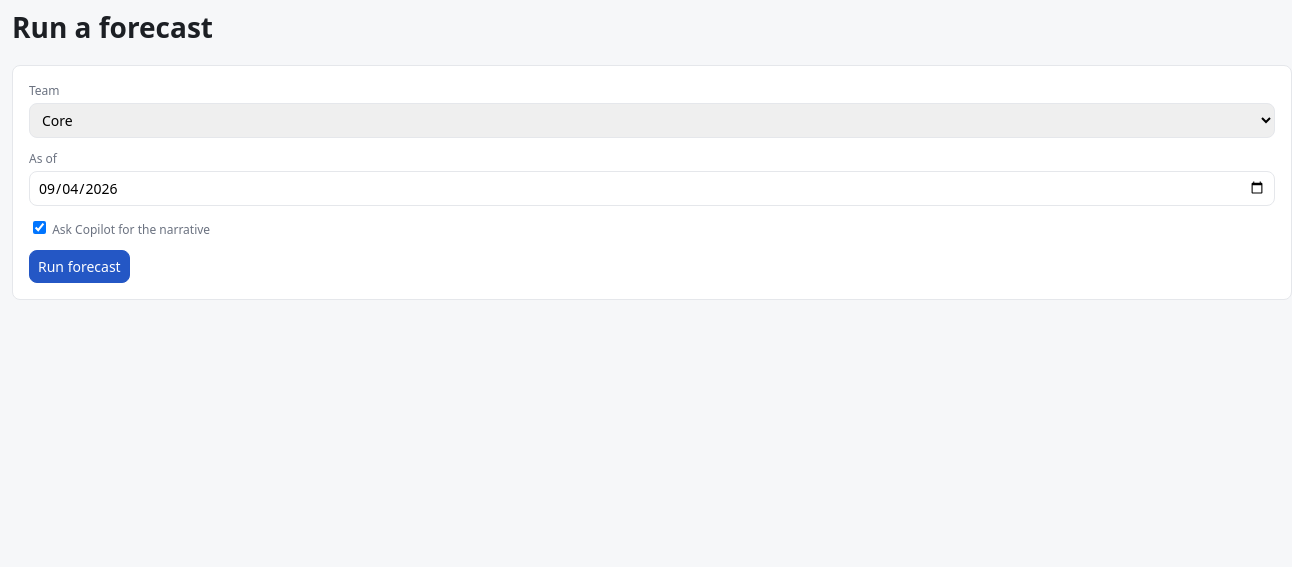
Run › keeps the completed forecast when the narrative request itself errors
Click the button "Run forecast".
click(79, 266)  # box x1=29 y1=250 x2=130 y2=282
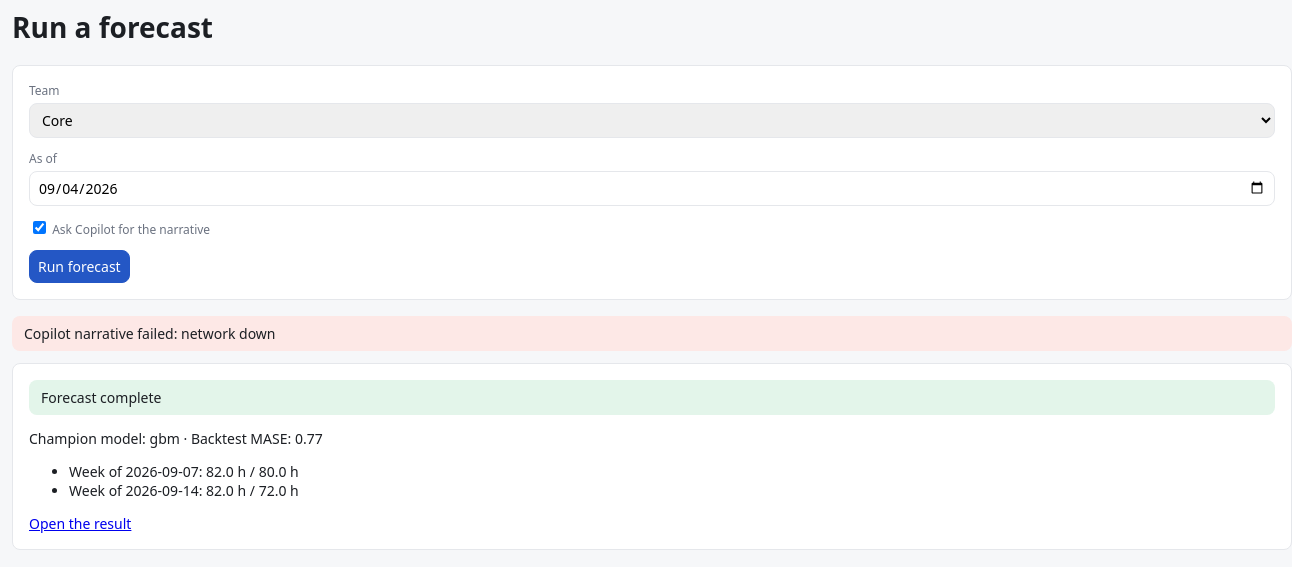
Expected: the text "Forecast complete" is shown, x1=29 y1=380 x2=1275 y2=414
Expected: the text "Copilot narrative failed: network down" is shown, x1=12 y1=316 x2=1291 y2=350
